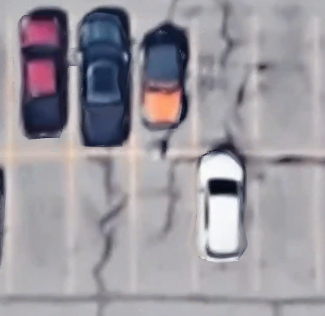Occupied: (70, 18, 133, 153), (134, 17, 195, 154), (9, 18, 70, 153), (195, 153, 255, 289)
Vacant: (70, 152, 133, 291), (132, 152, 194, 290), (194, 17, 256, 153), (10, 152, 70, 292), (256, 18, 315, 153), (256, 153, 314, 288)
